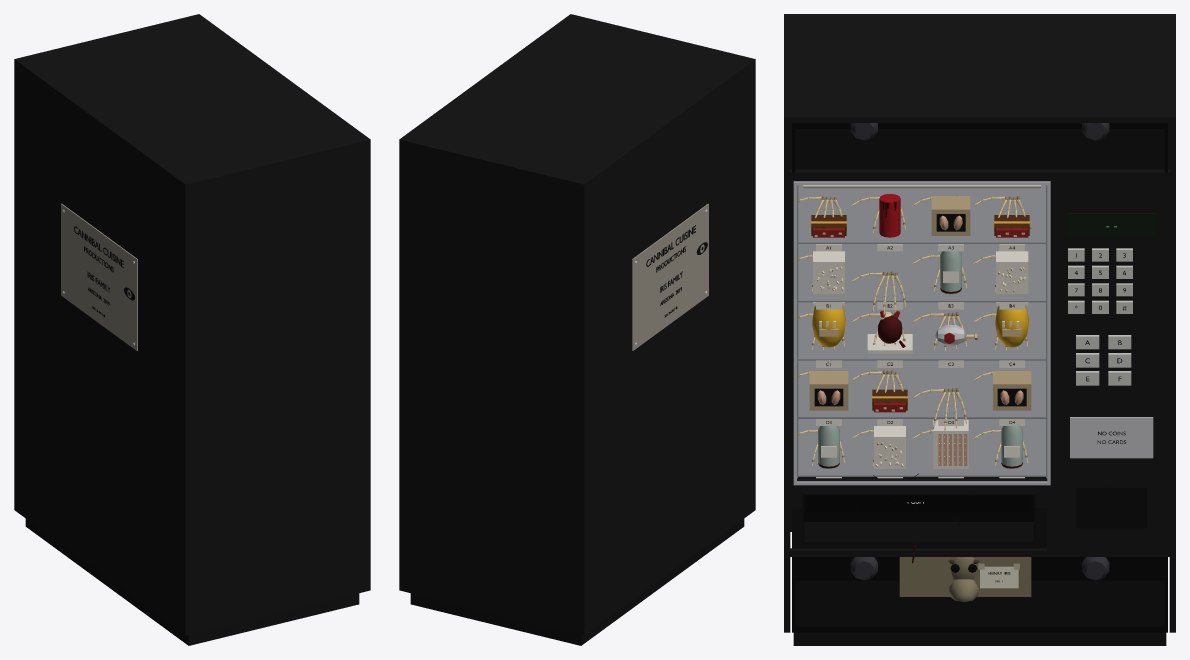
The model's file is cc_body@2.glb.
3 renders of one model, left to right at view 1: azimuth 30°, elevation 25°; view 2: azimuth 150°, elevation 25°; view 3: azimuth 270°, elevation 25°, orthographic. The views are drawn at different scales.
Parts seen in each view (by area): view 1: teil0, teil46, teil1, teil13; view 2: teil0, teil46, teil1, teil13; view 3: teil0, teil18, teil4, teil3, teil2, teil23, teil1, teil45, teil20, teil24, teil10, teil29 (+15 smaller).
Part boxes in pixels (x1,y1,x2,y2): teil0: [14, 14, 370, 635]; teil46: [61, 203, 137, 350]; teil1: [25, 519, 359, 645]; teil13: [74, 226, 134, 317]; teil0: [399, 14, 755, 635]; teil46: [632, 203, 708, 350]; teil1: [410, 519, 744, 645]; teil13: [646, 225, 707, 317]; teil0: [784, 14, 1175, 632]; teil18: [797, 185, 1047, 478]; teil4: [792, 123, 1167, 632]; teil3: [802, 214, 1156, 543]; teil2: [793, 181, 1153, 503]; teil23: [813, 251, 1028, 468]; teil1: [793, 632, 1166, 645]; teil45: [1068, 248, 1132, 385]; teil20: [816, 244, 1024, 478]; teil24: [798, 196, 1028, 465]; teil10: [899, 557, 1031, 596]; teil29: [809, 196, 1031, 410].
Bounding box in the file's own units: 0.8153 × 1.83 × 1.22.
